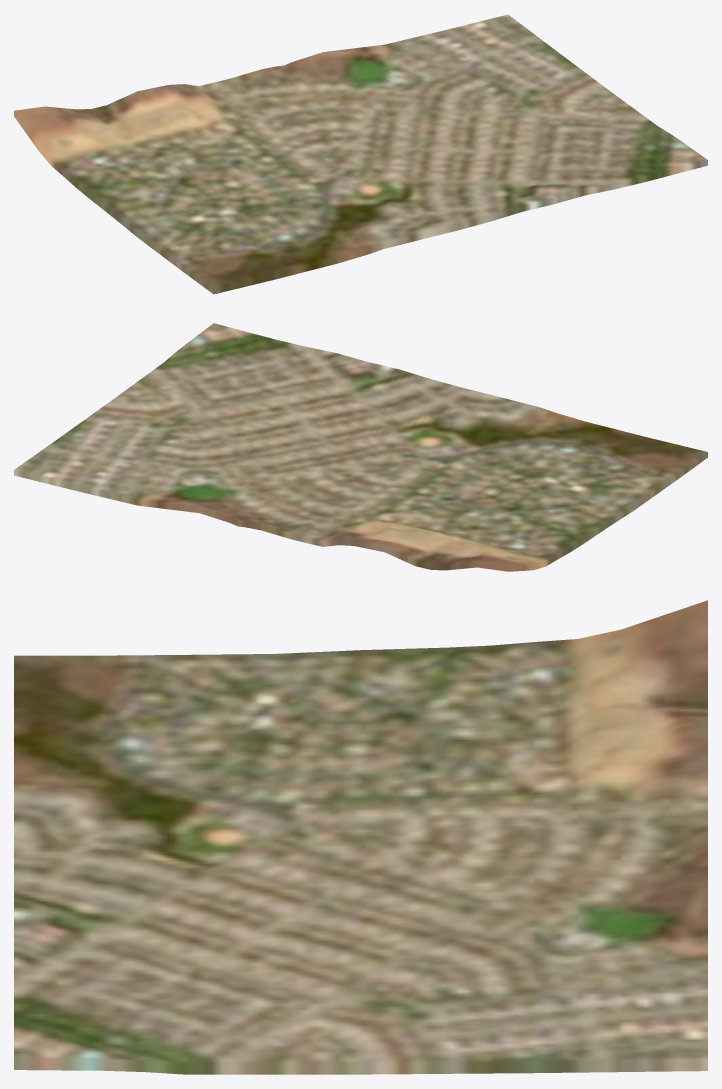
File: terrain_r2_c4_lod2.glb
3 renders of one model, top to bottom at view 1: azimuth 30°, elevation 25°; view 2: azimuth 150°, elevation 25°; view 3: azimuth 270°, elevation 25°, orthographic. The views are drawn at different scales.
Visible parts, largest first — view 1: terrain_r2_c4_lod2; view 2: terrain_r2_c4_lod2; view 3: terrain_r2_c4_lod2.
Boxes of the visible parts, x1,y1,x2,y2 form: terrain_r2_c4_lod2: [14, 14, 707, 294]; terrain_r2_c4_lod2: [14, 323, 707, 571]; terrain_r2_c4_lod2: [14, 600, 707, 1074].
Bounding box in the file's own units: 1125 × 81.78 × 787.
1 material, 1 textured.
